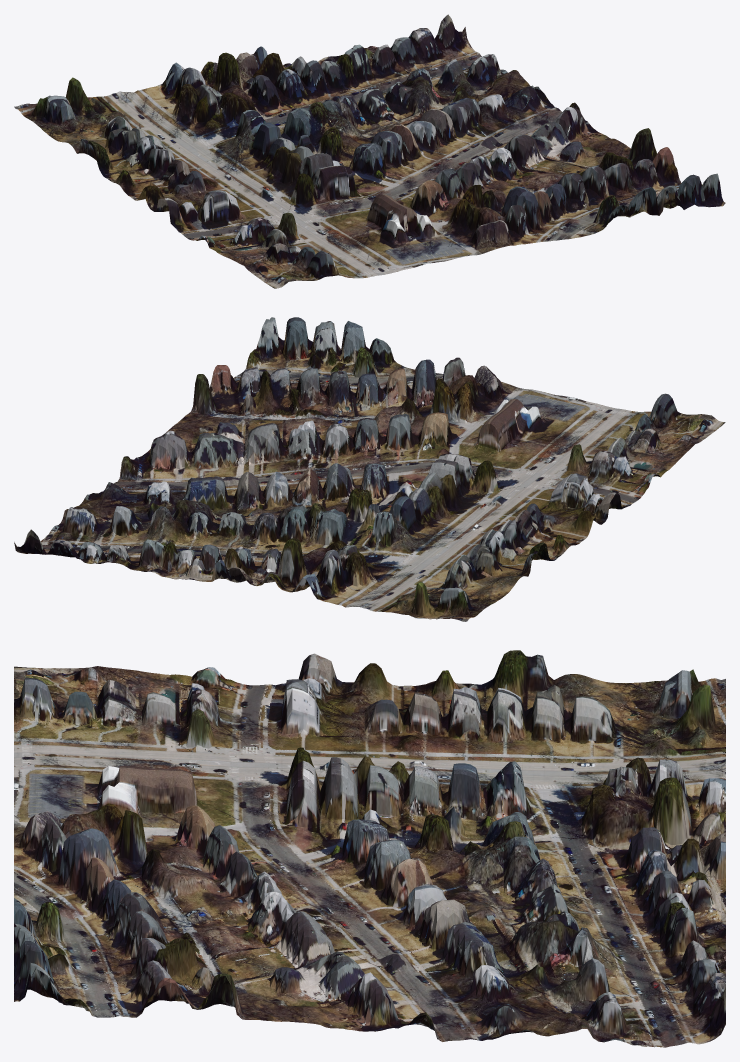
File: terrain-lod2.glb
3 views of the same model, one above another, from view 1: azimuth 30°, elevation 25°; view 2: azimuth 150°, elevation 25°; view 3: azimuth 270°, elevation 25° (orthographic). The views are drawn at different scales.
Visible parts, largest first — view 1: geometry_0; view 2: geometry_0; view 3: geometry_0.
Part boxes in pixels (x1,y1,x2,y2): geometry_0: [14, 14, 725, 288]; geometry_0: [14, 317, 725, 621]; geometry_0: [14, 650, 725, 1047].
Bounding box in the file's own units: 1023 × 167 × 1023.
1 material, 1 textured.
